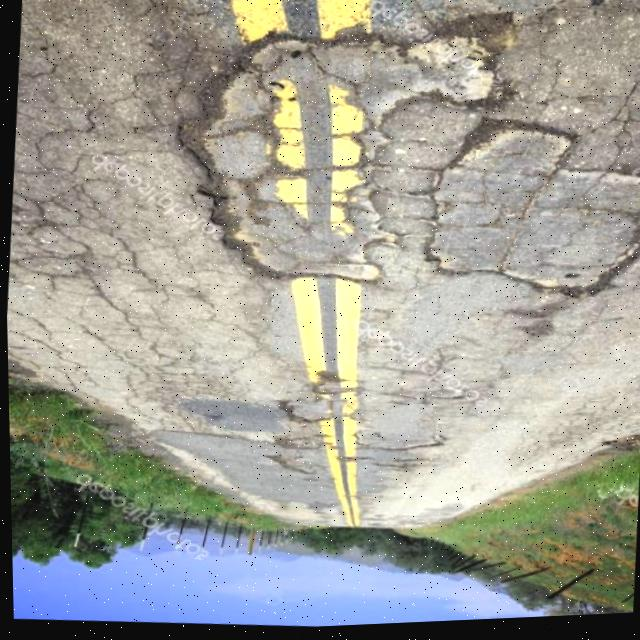Pothole: (184, 5, 640, 332), (256, 375, 361, 443), (262, 445, 339, 491), (261, 429, 344, 470)
